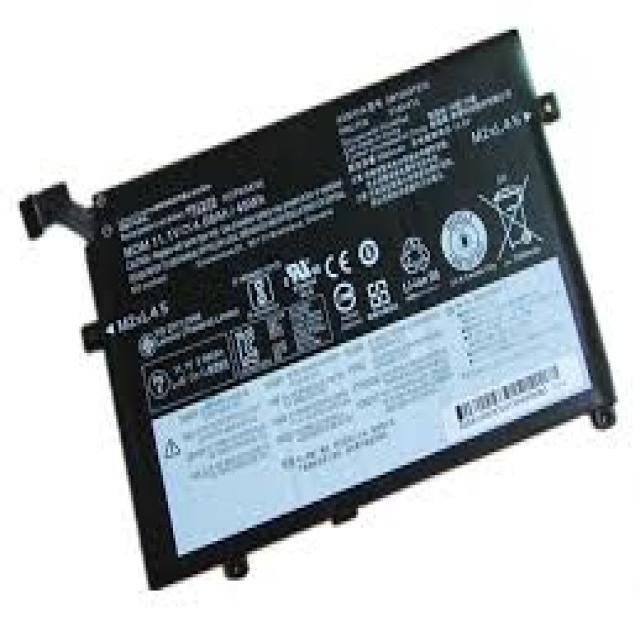battery: (19, 28, 616, 588)
